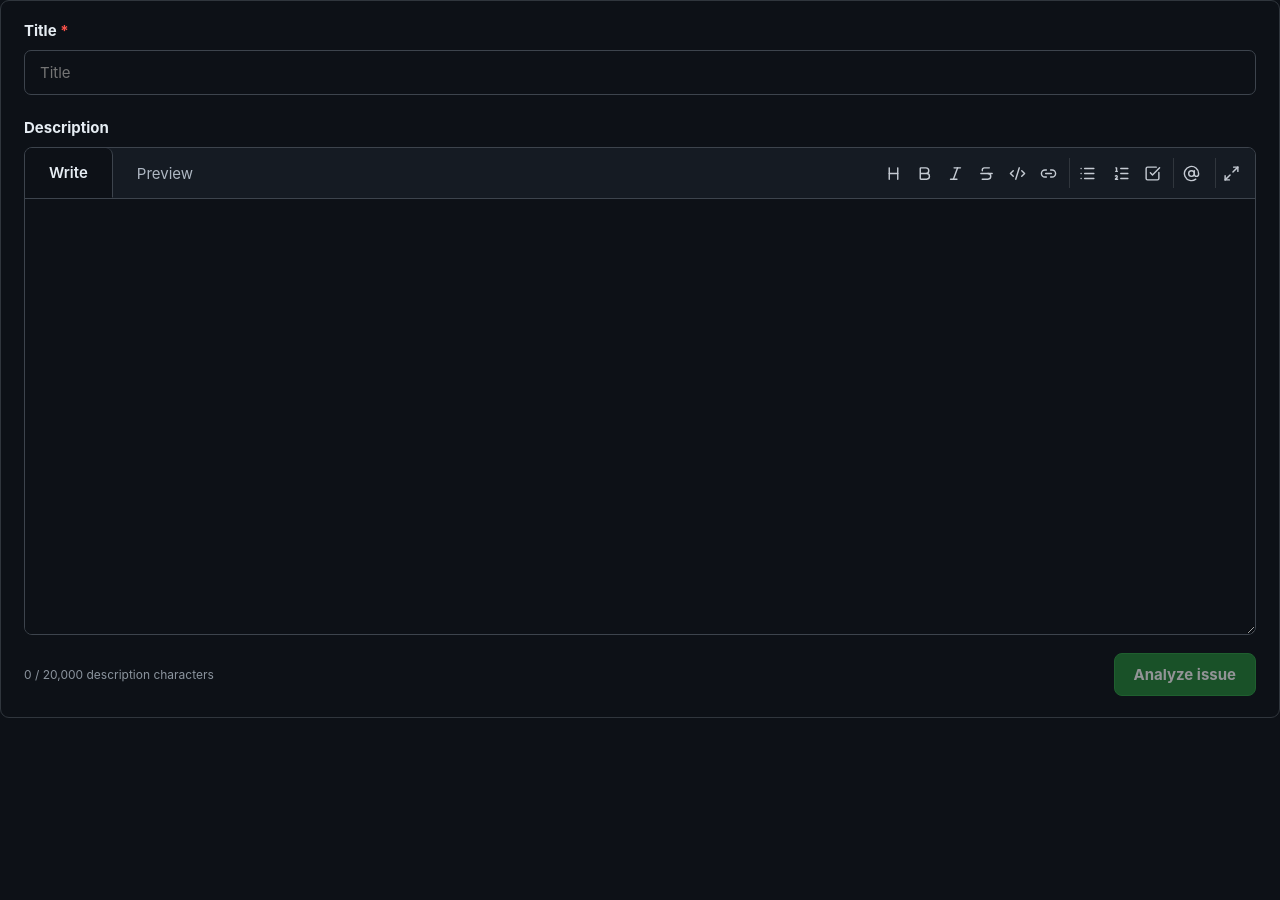
IssueEditor › shows an empty preview message
Click the tab "Preview": (165, 173) [113, 148, 217, 198]
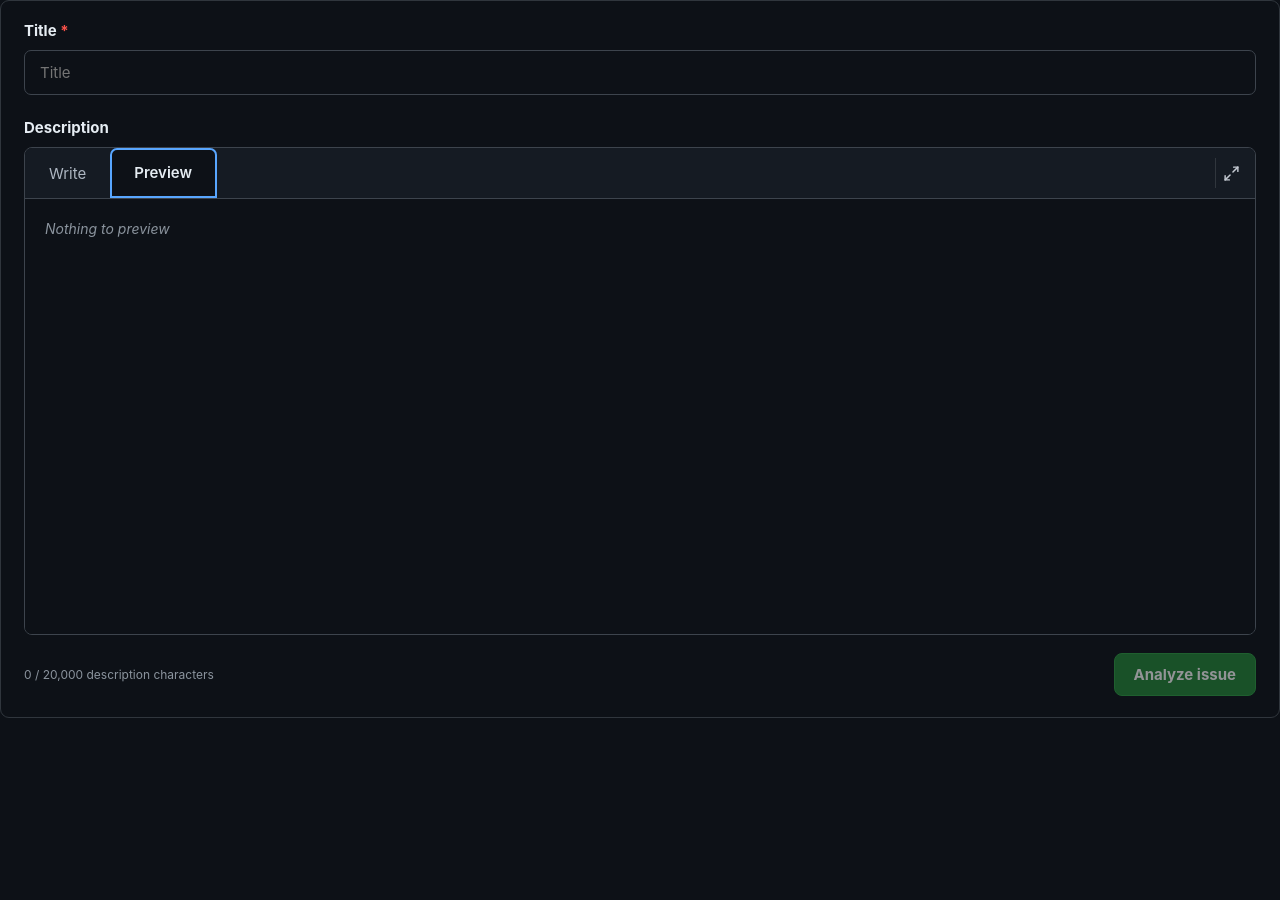
Expected: the text "Nothing to preview" is shown, [25, 199, 1255, 634]
